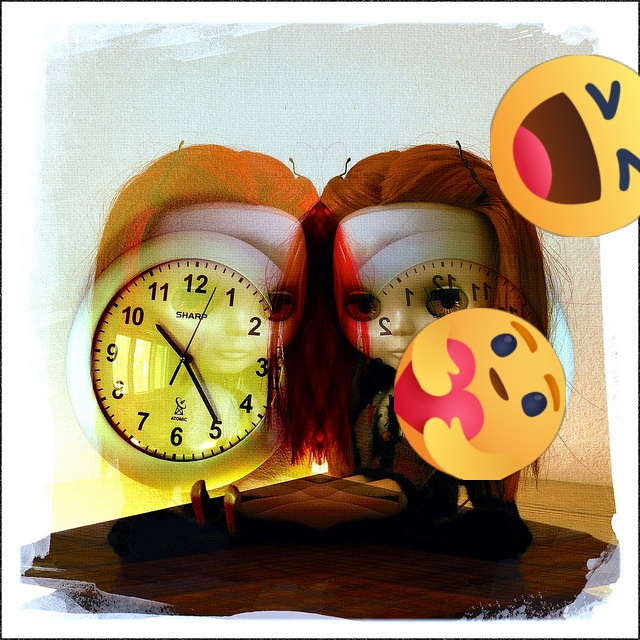care: (394, 308, 566, 480)
haha: (490, 55, 640, 237)
